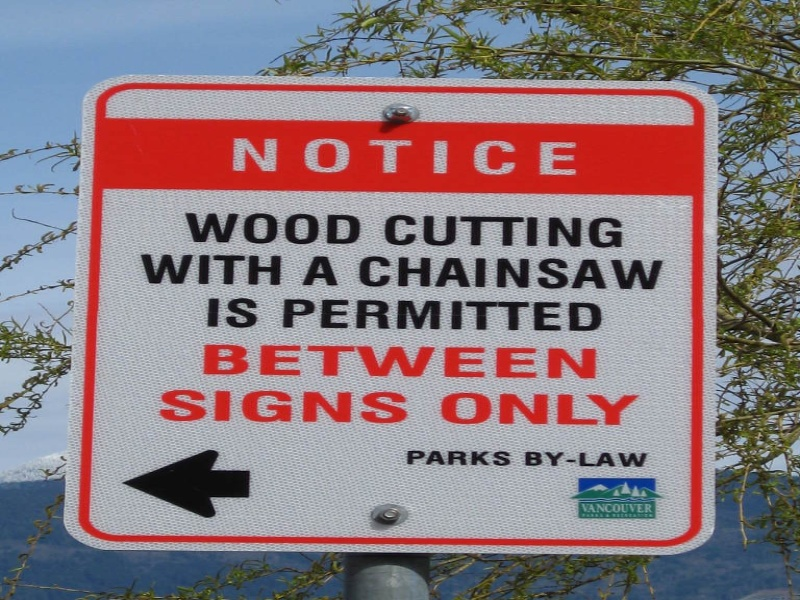left_direction: (120, 439, 257, 530)
